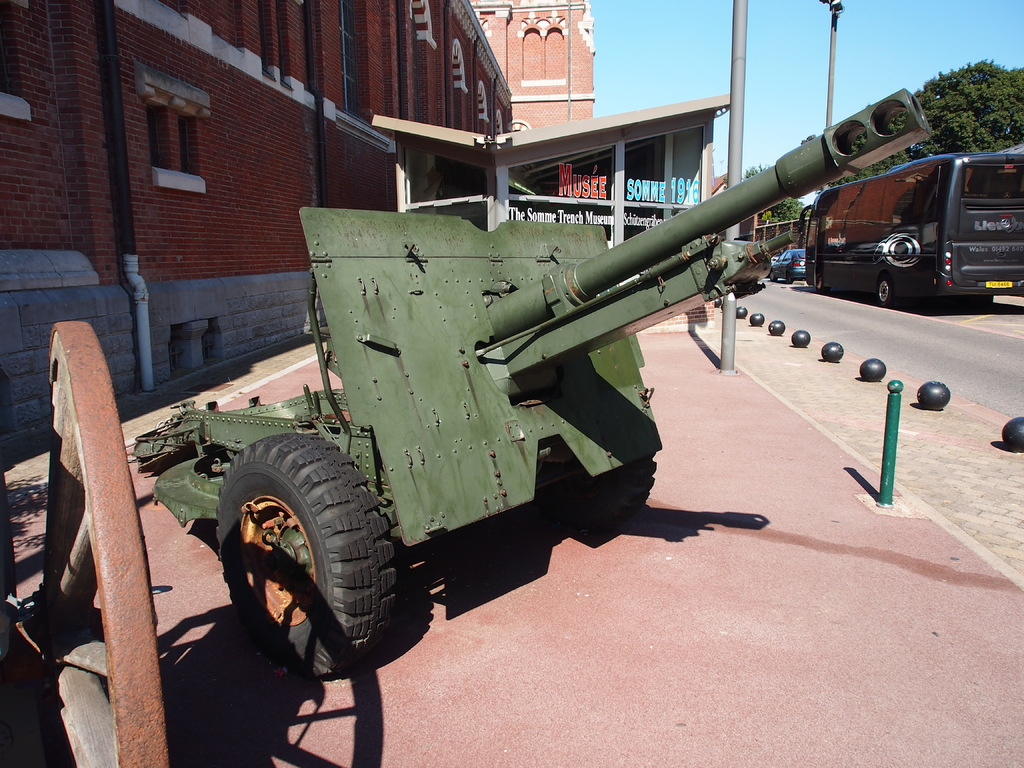Car: (768, 241, 808, 287)
